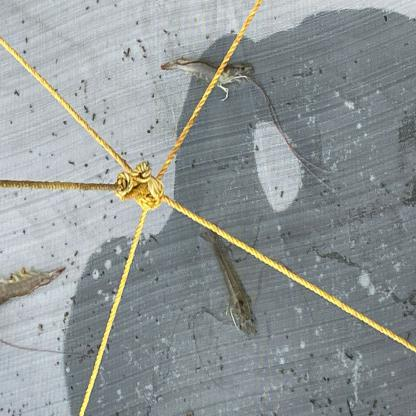shrimp: (199, 225, 257, 334), (160, 55, 256, 87), (0, 267, 67, 312)
